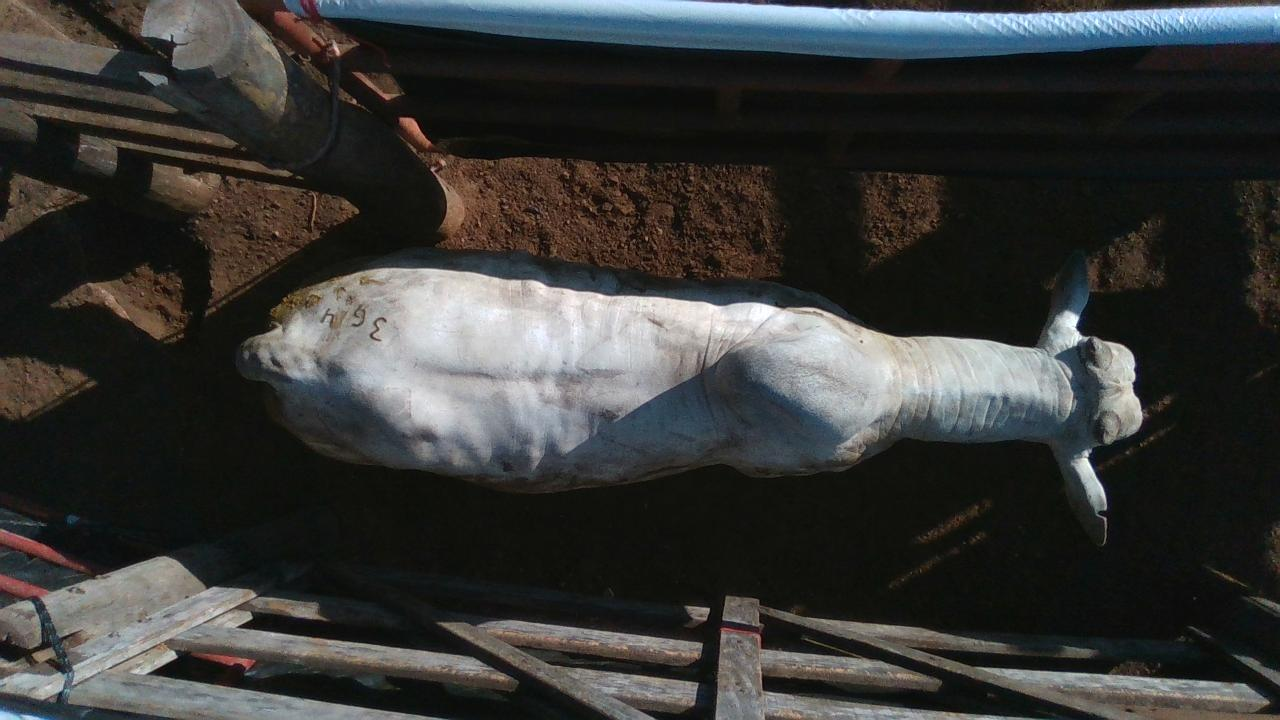cattle: (233, 243, 1144, 547)
